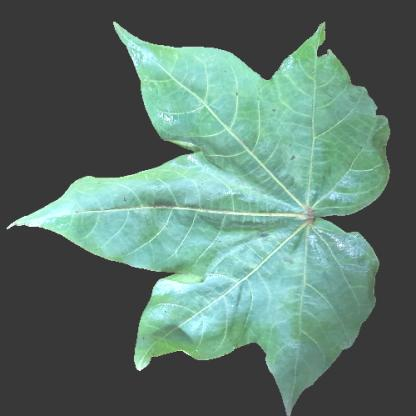healthy: (212, 86, 344, 194), (208, 215, 290, 344), (103, 171, 178, 253), (147, 45, 215, 127), (300, 252, 362, 324), (272, 329, 344, 384), (148, 289, 206, 355)
